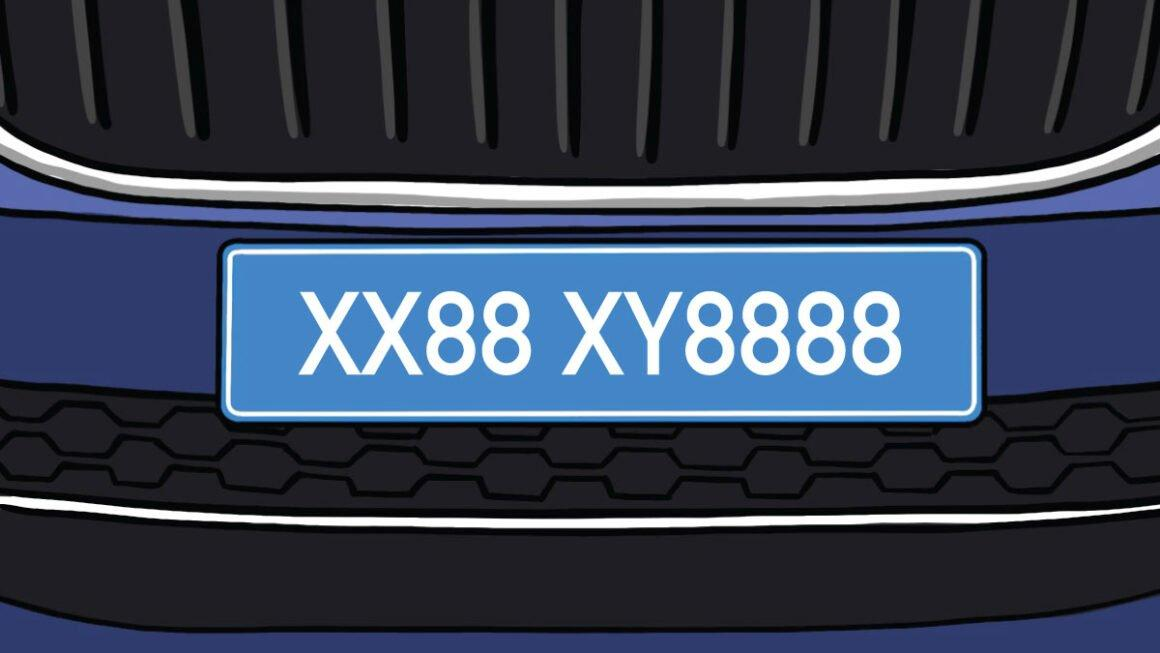Liscence Plate: (239, 244, 977, 415)
